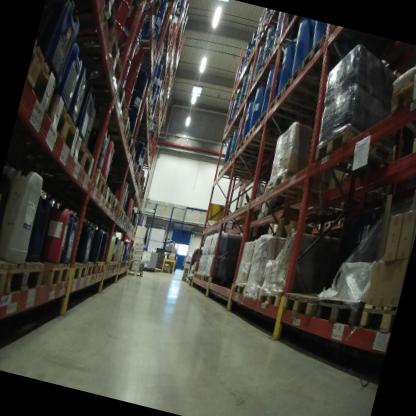pallet: (313, 120, 404, 189), (63, 22, 136, 85), (19, 41, 71, 128), (263, 164, 339, 215), (381, 50, 416, 152), (39, 89, 89, 160), (0, 254, 49, 322), (59, 0, 130, 42), (296, 33, 349, 89), (281, 61, 339, 112), (86, 74, 138, 122), (265, 88, 322, 127), (280, 278, 324, 326), (313, 286, 364, 326), (264, 37, 310, 80), (355, 293, 398, 338), (252, 108, 308, 141), (149, 7, 183, 57), (66, 135, 100, 183), (36, 254, 74, 293), (130, 30, 166, 70), (114, 107, 143, 156), (233, 138, 279, 165), (221, 159, 268, 184), (242, 127, 287, 152), (227, 152, 275, 173), (258, 14, 289, 45), (65, 250, 92, 285), (254, 55, 285, 85), (86, 165, 112, 198), (257, 286, 283, 312), (0, 256, 11, 305), (151, 0, 185, 15), (228, 107, 252, 128), (83, 255, 101, 280), (247, 76, 268, 97), (201, 272, 226, 289), (240, 282, 262, 301), (126, 143, 141, 167), (101, 185, 117, 207), (108, 192, 123, 215), (229, 278, 246, 298), (159, 71, 176, 91), (242, 52, 257, 73), (237, 91, 253, 110), (138, 90, 154, 109), (94, 259, 109, 279), (142, 84, 158, 102), (127, 266, 147, 280), (116, 202, 129, 222), (250, 40, 264, 58), (130, 157, 142, 178), (133, 168, 144, 187), (114, 256, 125, 273), (146, 116, 156, 134), (109, 258, 119, 273), (106, 258, 115, 273), (121, 256, 130, 271), (147, 102, 155, 116), (122, 216, 131, 228), (154, 267, 163, 276), (180, 276, 189, 284), (198, 272, 205, 282), (185, 278, 193, 286), (195, 271, 202, 280), (191, 270, 198, 279)
